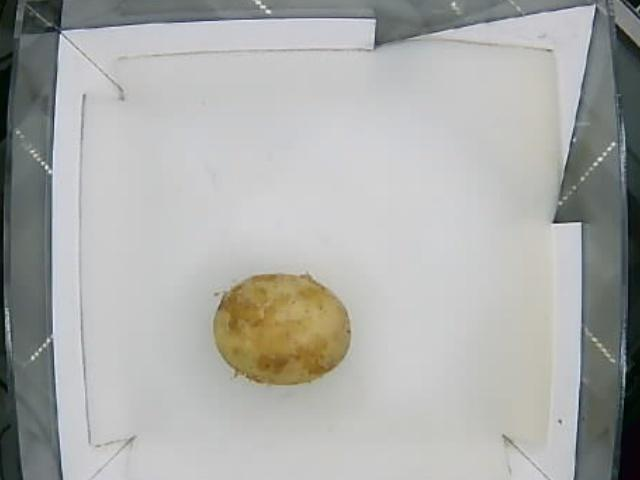Potato: (214, 271, 354, 386)
